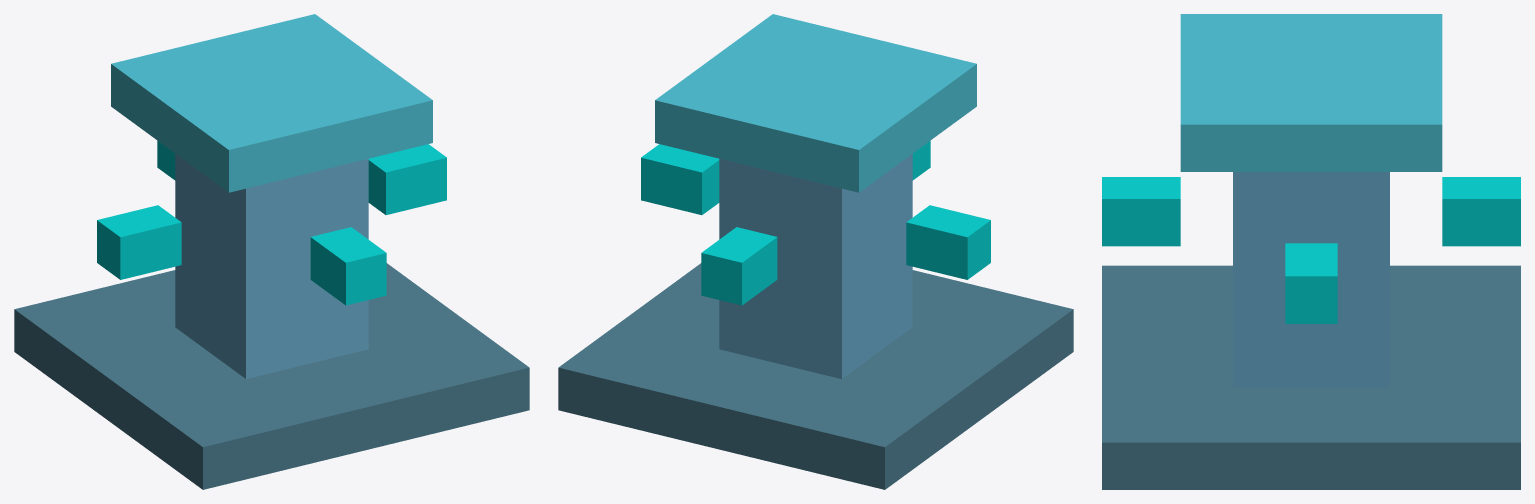
File: quantumFieldGenerator.glb
3 views of the same model, side by side, from view 1: azimuth 30°, elevation 25°; view 2: azimuth 150°, elevation 25°; view 3: azimuth 270°, elevation 25° (orthographic). The views are drawn at different scales.
Visible parts, largest first — view 1: world; view 2: world; view 3: world.
Part boxes in pixels (x1,y1,x2,y2): world: (14,14,529,489); world: (558,14,1073,489); world: (1102,14,1520,489).
Bounding box in the file's own units: 0.8 × 0.7 × 0.8.
